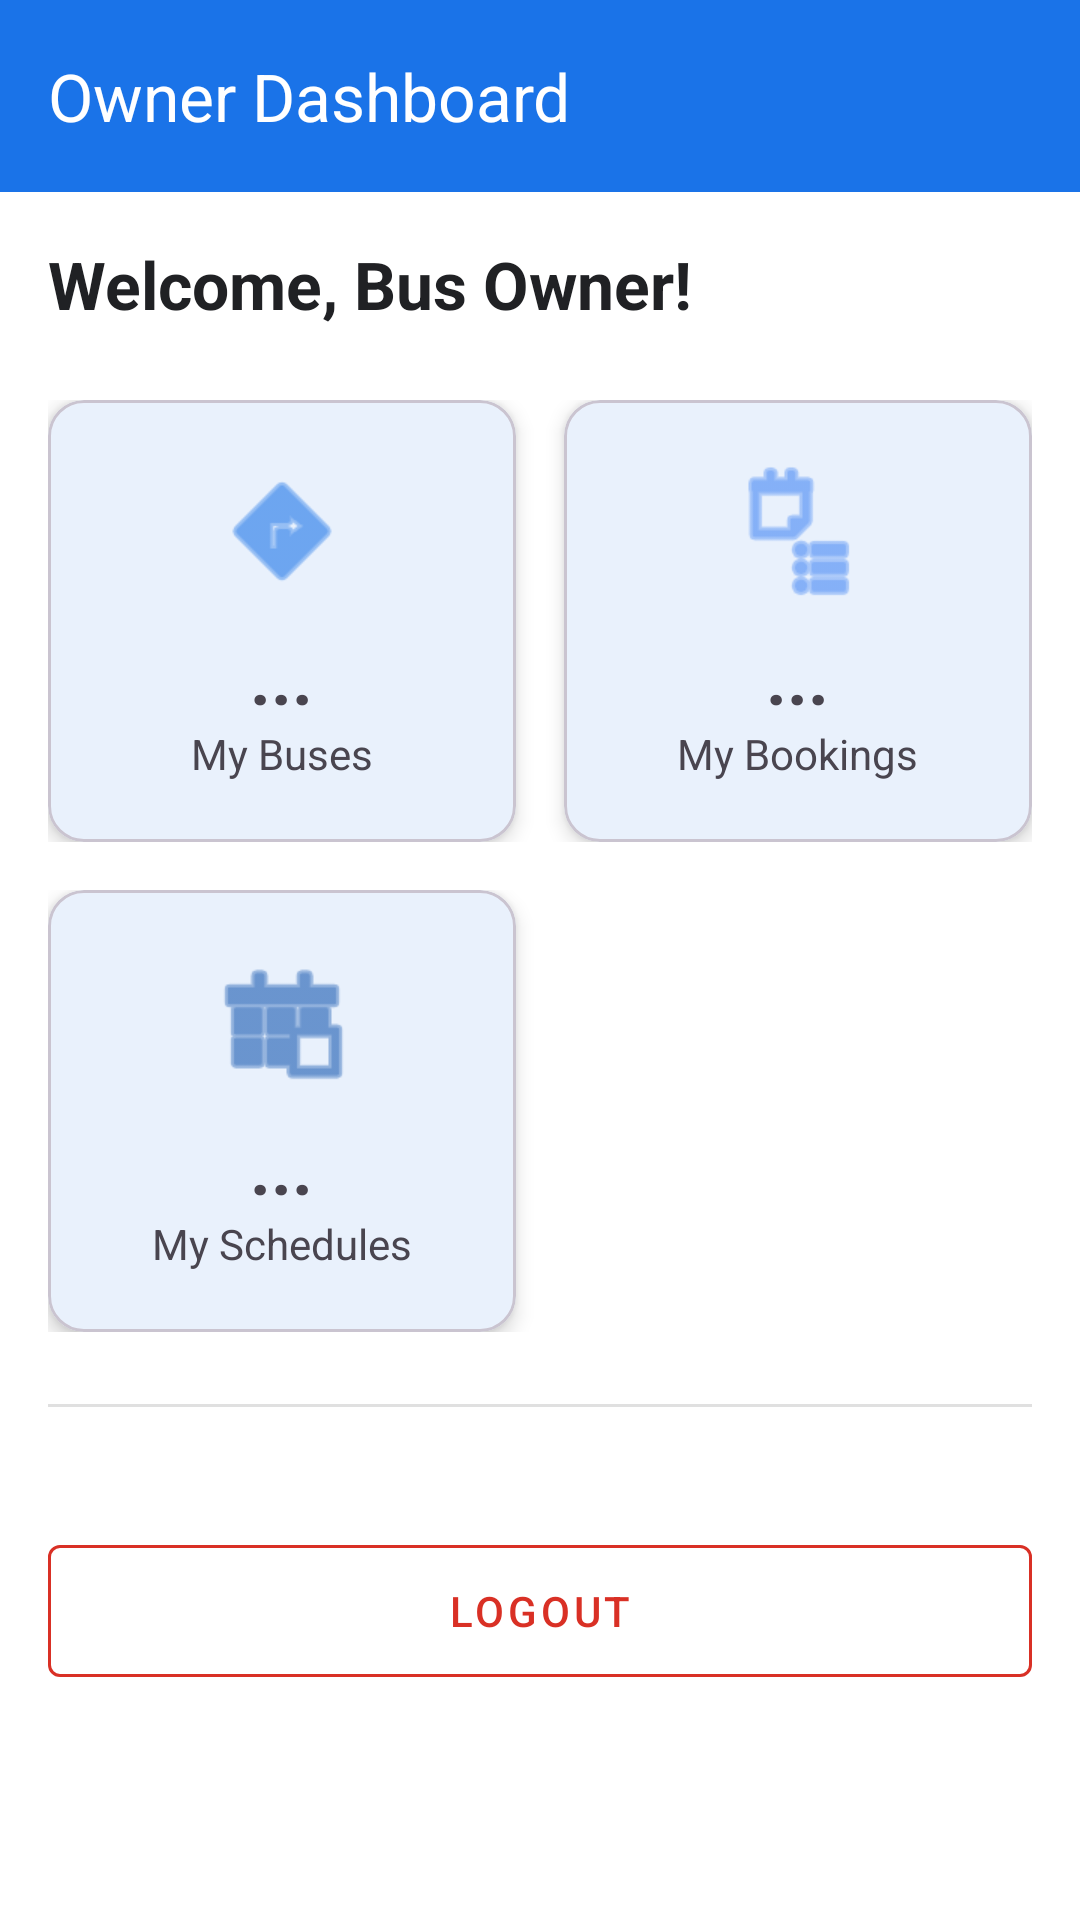

Point at icon controls on the screen. Image size 1080px×1920px, points as (x,y).
agenda: (798,531)
directions: (282,531)
today: (283,1024)
